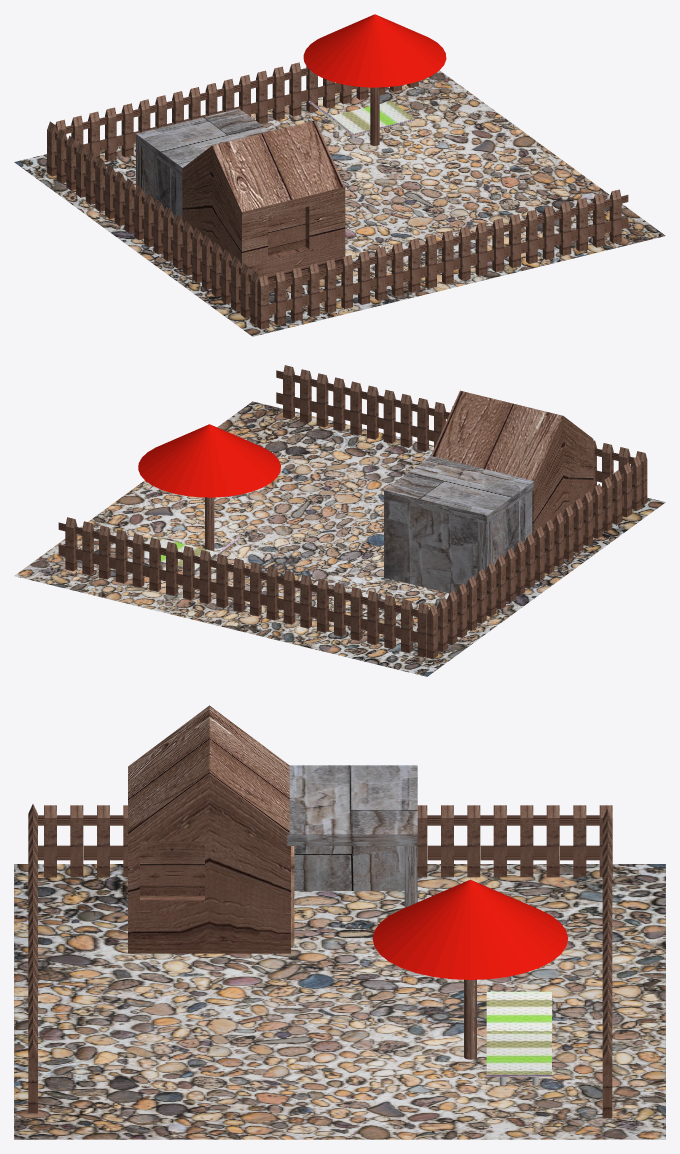
Rendered from ModeloDeCasa.fbx.
3 views of the same model, one above another, from view 1: azimuth 30°, elevation 25°; view 2: azimuth 150°, elevation 25°; view 3: azimuth 270°, elevation 25° (orthographic). The views are drawn at different scales.
Parts seen in each view (by area): view 1: Plano, Cubo, Cubo.006, Cubo.008, Cubo.007, Cono, Cubo.001, Cubo.002, Cubo.004, Cilindro; view 2: Plano, Cubo.007, Cubo, Cubo.008, Cubo.006, Cubo.003, Cono, Cubo.001, Cubo.002, Cilindro, Cubo.004; view 3: Plano, Cubo, Cubo.008, Cono, Cubo.001, Cubo.002, Cubo.007, Cubo.006, Cubo.004, Cubo.005, Cilindro, Cubo.003.
Part boxes in pixels (x1=…): Plano: x1=14, y1=70, x2=665, y2=336; Cubo: x1=182, y1=120, x2=345, y2=291; Cubo.006: x1=257, y1=189, x2=628, y2=329; Cubo.008: x1=47, y1=121, x2=259, y2=325; Cubo.007: x1=55, y1=62, x2=418, y2=161; Cono: x1=303, y1=14, x2=446, y2=87; Cubo.001: x1=136, y1=108, x2=269, y2=175; Cubo.002: x1=142, y1=147, x2=182, y2=219; Cubo.004: x1=331, y1=101, x2=414, y2=135; Cilindro: x1=370, y1=87, x2=379, y2=145; Plano: x1=14, y1=401, x2=665, y2=676; Cubo.007: x1=58, y1=517, x2=428, y2=657; Cubo: x1=431, y1=390, x2=593, y2=537; Cubo.008: x1=427, y1=455, x2=641, y2=659; Cubo.006: x1=276, y1=365, x2=647, y2=505; Cubo.003: x1=384, y1=499, x2=491, y2=594; Cono: x1=138, y1=424, x2=280, y2=497; Cubo.001: x1=384, y1=456, x2=533, y2=523; Cubo.002: x1=477, y1=491, x2=532, y2=573; Cilindro: x1=205, y1=497, x2=214, y2=551; Cubo.004: x1=144, y1=537, x2=217, y2=571; Plano: x1=14, y1=864, x2=665, y2=1139; Cubo: x1=128, y1=705, x2=290, y2=953; Cubo.008: x1=38, y1=805, x2=612, y2=877; Cono: x1=372, y1=879, x2=567, y2=979; Cubo.001: x1=287, y1=765, x2=417, y2=845; Cubo.002: x1=294, y1=846, x2=404, y2=890; Cubo.007: x1=602, y1=808, x2=612, y2=1118; Cubo.006: x1=28, y1=804, x2=37, y2=1113; Cubo.004: x1=486, y1=1033, x2=551, y2=1076; Cubo.005: x1=486, y1=991, x2=551, y2=1033; Cilindro: x1=464, y1=979, x2=476, y2=1059; Cubo.003: x1=404, y1=846, x2=417, y2=907.
Size of the model in its own units: 2000 by 607 by 2000.
Materials: 13 (12 with a texture image).
